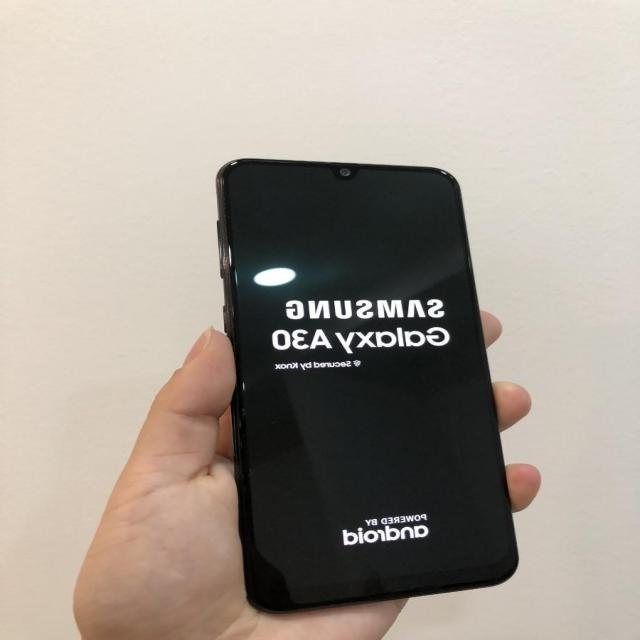mobile: (222, 158, 515, 610)
